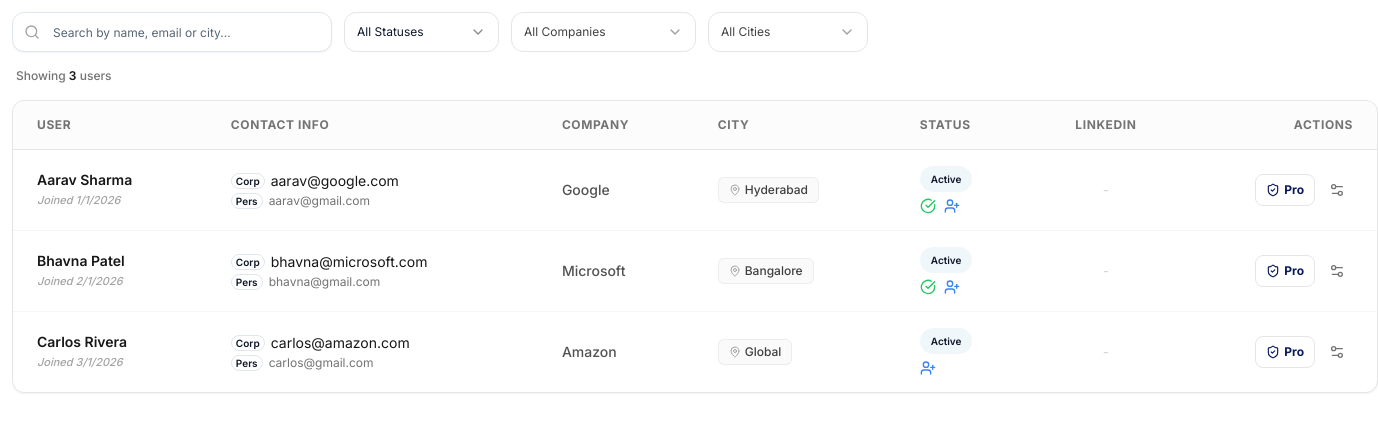
Admin UsersTab Component - City Filter › displays empty state with clear filters button when 0 results match
The width and height of the screenshot is (1378, 447).
In the field with placeholder "Search by name, email or city...": (172, 32) x1=12 y1=12 x2=332 y2=52, type "NonExistentCityOrUser"
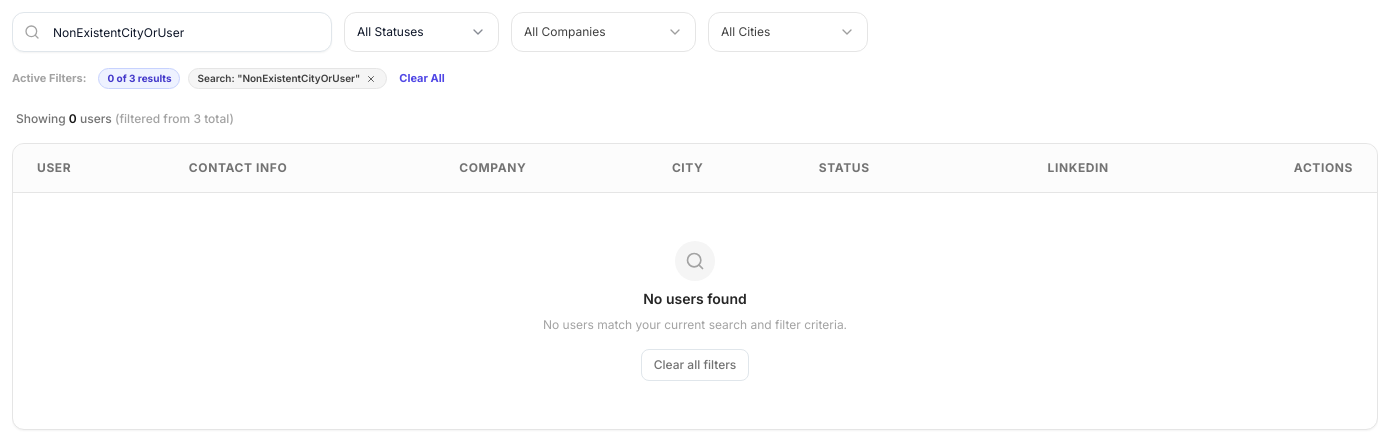
expect the text "No users found" is shown: met, box x1=643 y1=289 x2=747 y2=309
expect the text "0 of 3 results" is shown: met, box x1=98 y1=68 x2=180 y2=89
expect the button "Clear all filters" is shown: met, box x1=641 y1=349 x2=749 y2=381
